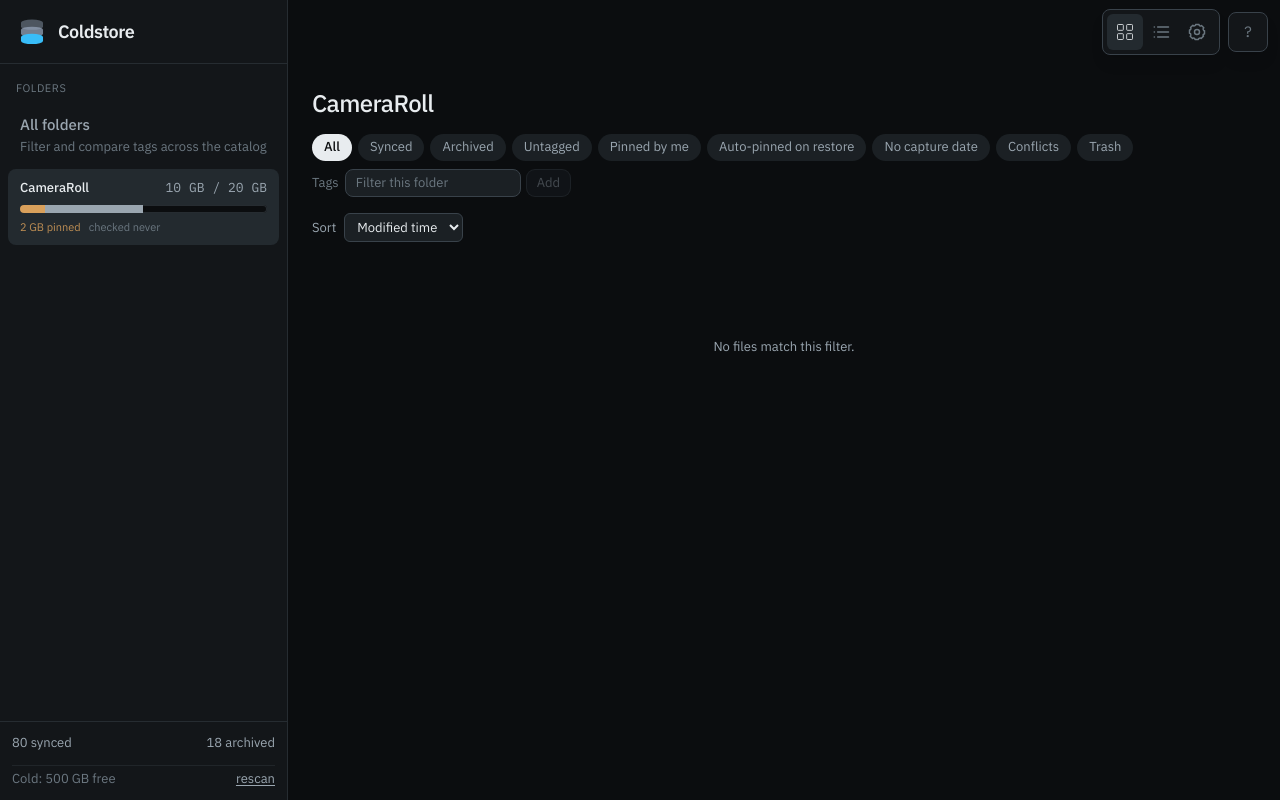
Test case: App › should filter by tags inside one folder and across all folders
Expected: the heading "CameraRoll" is shown, [312,87,433,119]
Type "Trips" into the search field named "Filter CameraRoll by tag".
click(433, 183); type("Trips")  # box [345,169,521,197]
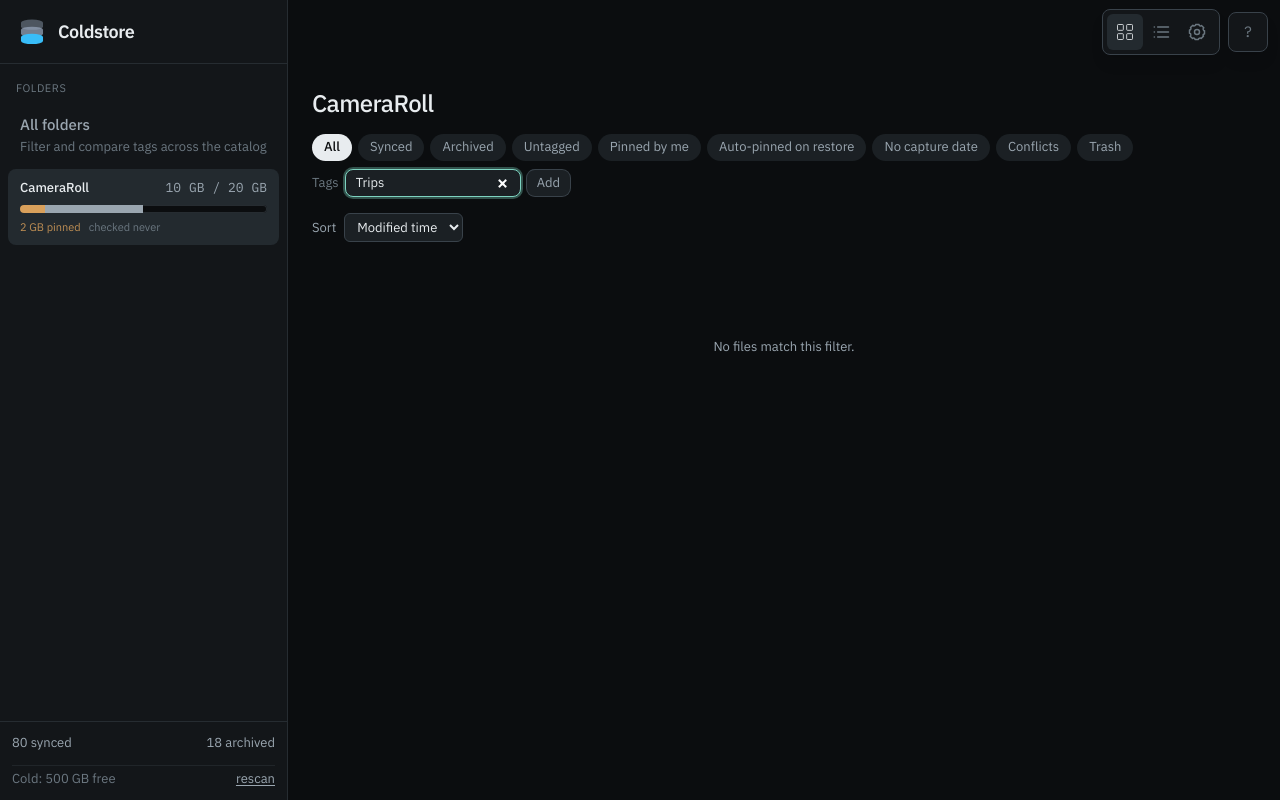
Click the button "Add".
click(548, 183)  # box [527,170,570,196]
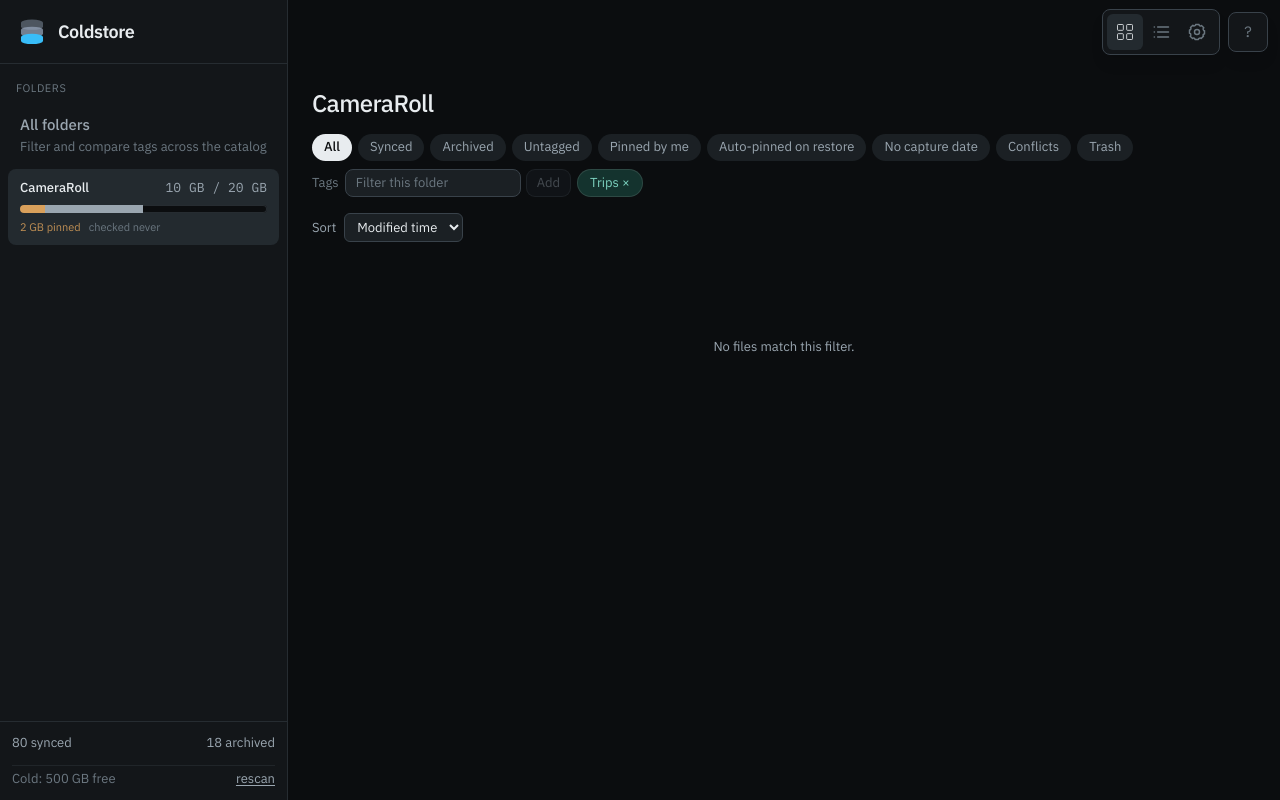
Click the button "All folders Filter and compare tags across the catalog".
click(55, 124)  # box [8,106,279,165]
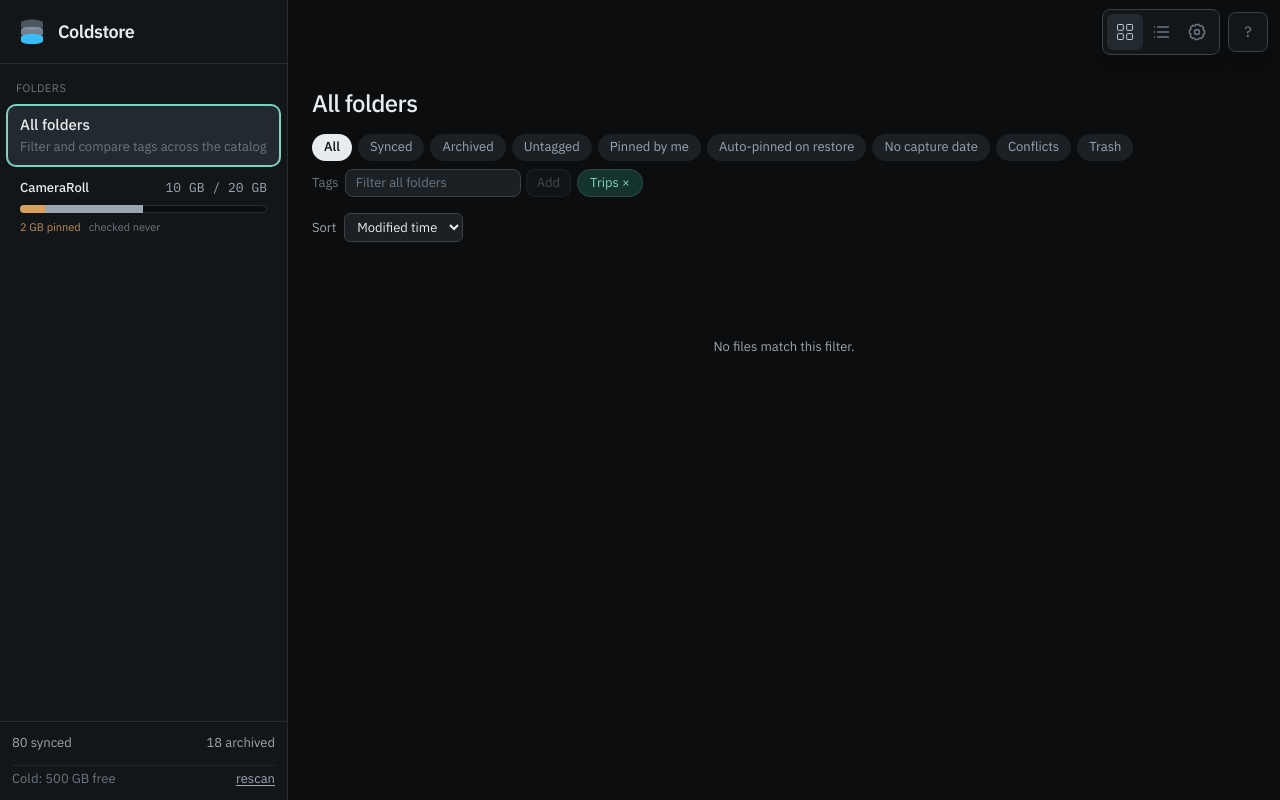
Result: the heading "All folders" is shown at [312,87,417,119]
